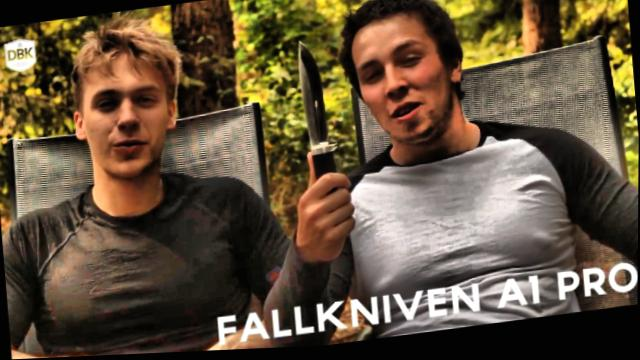knife: (286, 27, 358, 233)
